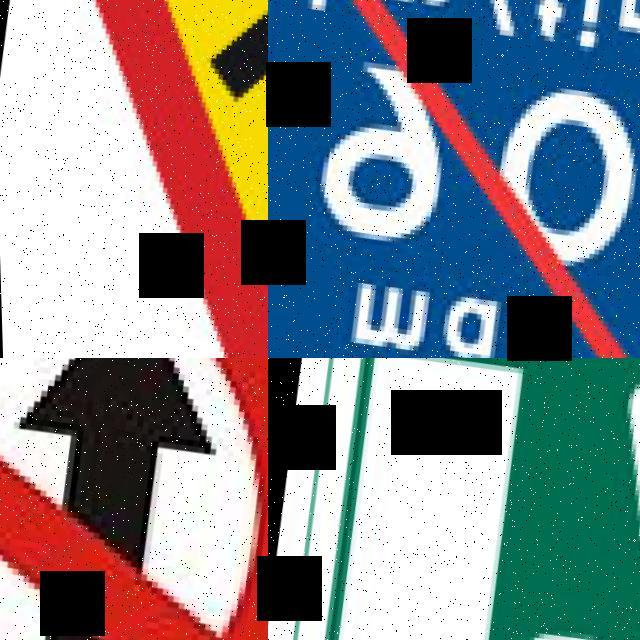103: (268, 0, 640, 358)
166: (0, 0, 268, 358)
One-way traffic: (0, 358, 268, 640)
exit: (268, 358, 640, 640)
